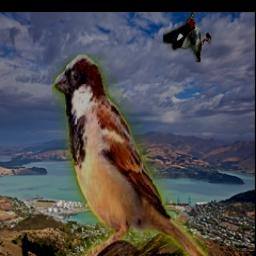Sparrow: (52, 53, 208, 256)
Woodpecker: (162, 13, 210, 62)
